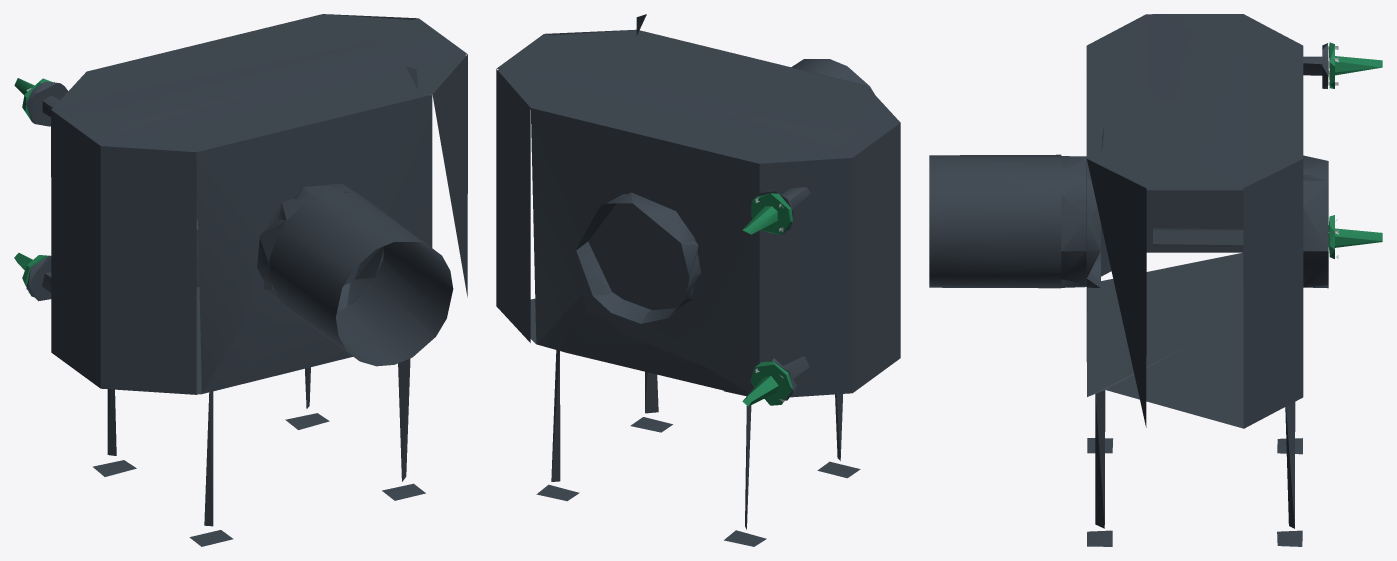
Rendered from economizer.glb.
3 views of the same model, side by side, from view 1: azimuth 30°, elevation 25°; view 2: azimuth 150°, elevation 25°; view 3: azimuth 270°, elevation 25° (orthographic). The views are drawn at different scales.
Visible parts, largest first — view 1: economizer, flue_spacer, eco_inlet_adapter; view 2: economizer, eco_inlet_adapter, flue_spacer; view 3: economizer, flue_spacer, eco_inlet_adapter.
Part boxes in pixels (x1,y1,x2,y2): economizer: (26,14,467,546); flue_spacer: (269,192,453,366); eco_inlet_adapter: (14,78,54,296); economizer: (496,14,900,546); eco_inlet_adapter: (742,193,793,406); flue_spacer: (791,59,874,94); economizer: (1061,14,1328,546); flue_spacer: (929,154,1061,288); eco_inlet_adapter: (1328,42,1382,258).
Size of the model in its own units: 1.58 by 1.74 by 1.72.
